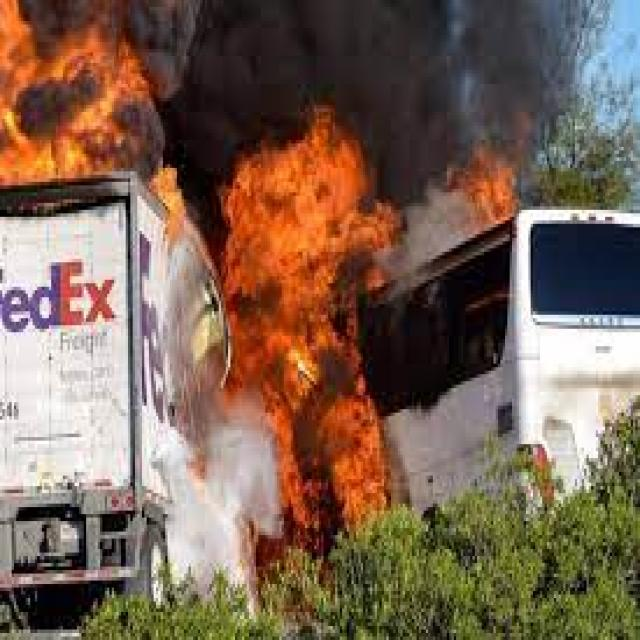fire: (212, 116, 405, 560), (2, 3, 166, 185), (466, 144, 522, 228)
smoke: (166, 3, 586, 161)
